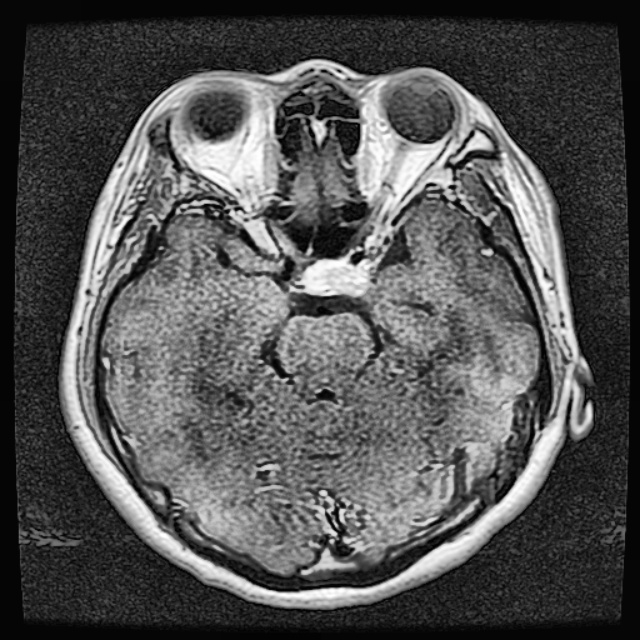Pituitary: (299, 258, 375, 294)
